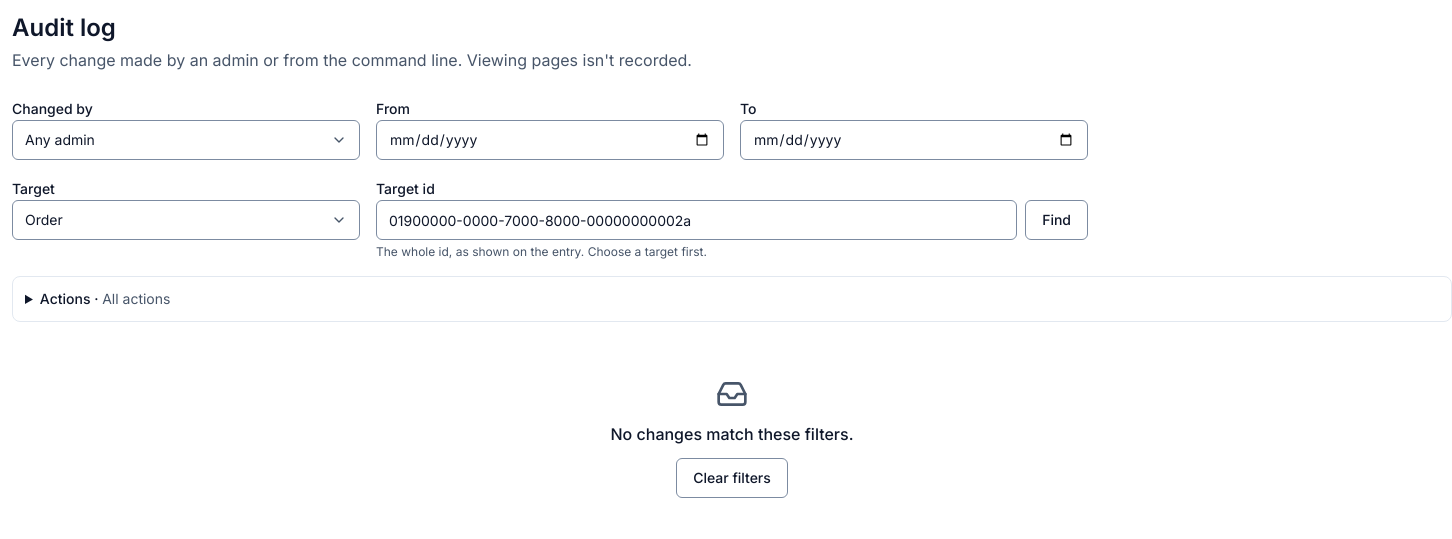
Test: audit log (spec 03 AD-38, T-M10) › a History link filters by target; a partial id is refused before sending
Replace the text in the field labelled "Target id" with "01900000" at [697, 220], box [376,200,1017,240]
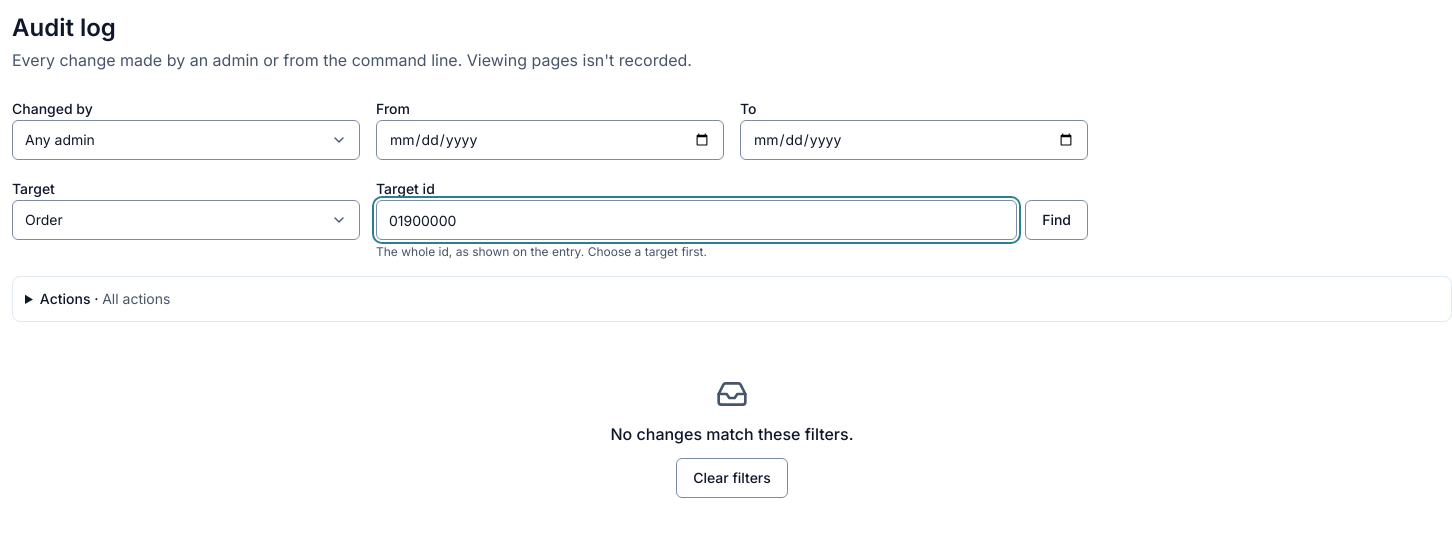
Click the button "Find" at [1057, 220], box [1025,200,1088,240]
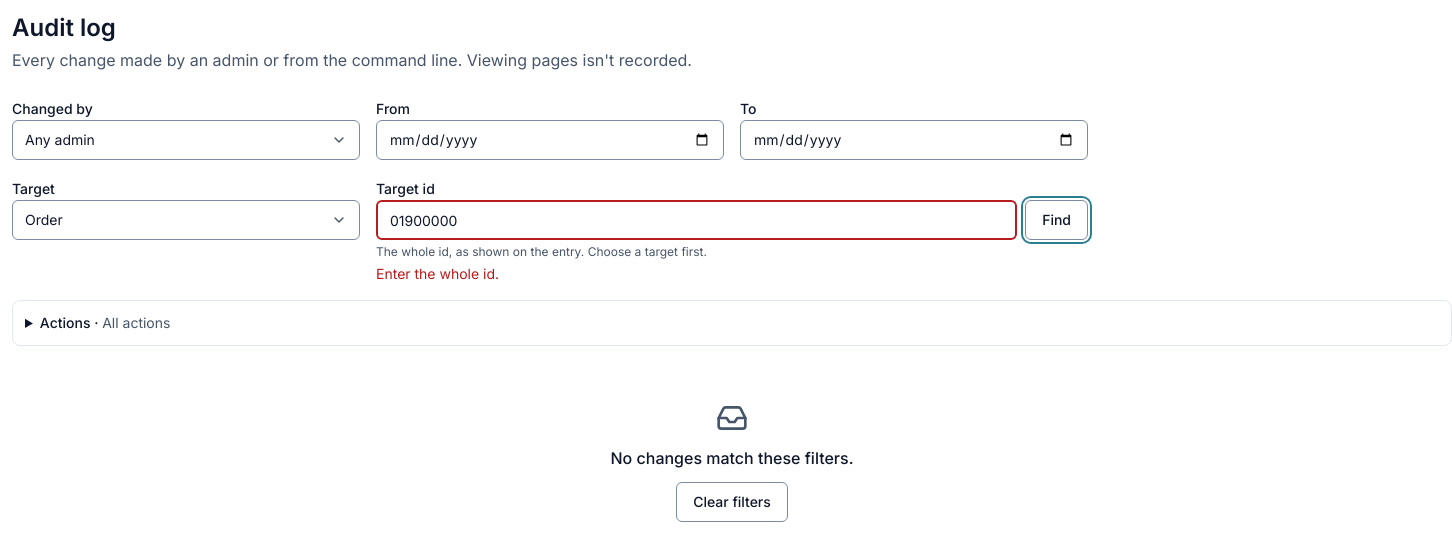
Expected: the text "No changes match these filters." is shown, [610,446,854,470]
Now the text "Enter the whole id." is shown, box [376,265,499,282]
